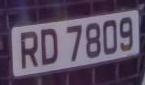0: (101, 16, 120, 60)
7: (64, 22, 87, 66)
8: (83, 19, 103, 63)
9: (118, 15, 135, 56)
D: (38, 24, 61, 67)
R: (15, 28, 41, 73)
